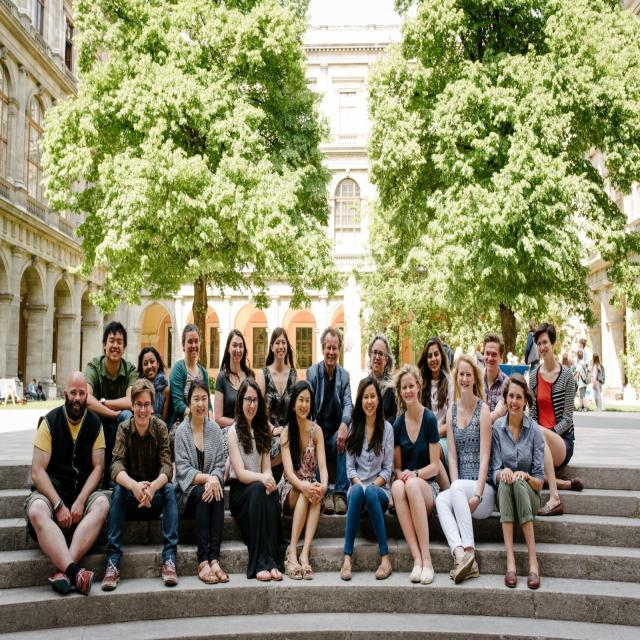body: (24, 368, 111, 598), (100, 378, 180, 592), (434, 352, 497, 587), (490, 371, 546, 591), (225, 377, 285, 582), (388, 361, 442, 585), (338, 374, 396, 581), (174, 377, 232, 583), (526, 322, 584, 517), (278, 379, 329, 580), (304, 324, 355, 516), (82, 321, 138, 494), (252, 324, 303, 476), (168, 323, 215, 464), (416, 337, 454, 491), (478, 332, 510, 492), (214, 330, 256, 430), (366, 333, 398, 427), (136, 346, 170, 424), (570, 338, 590, 412), (574, 349, 592, 413), (524, 319, 540, 377), (592, 351, 604, 414), (438, 330, 453, 368), (27, 377, 47, 402), (475, 340, 485, 369), (620, 377, 627, 394), (561, 352, 569, 365)
